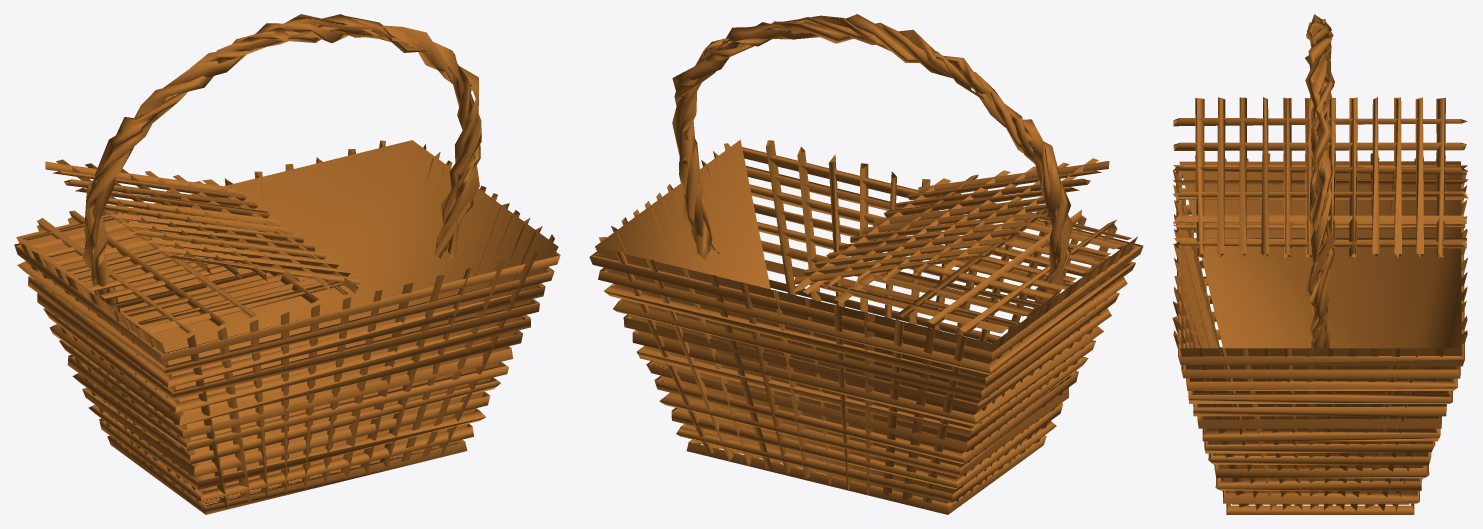
File: cestino_picnic_LOD2.fbx
The picture shows the model from 3 angles, left to right: view 1: azimuth 30°, elevation 25°; view 2: azimuth 150°, elevation 25°; view 3: azimuth 270°, elevation 25°; orthographic projection. The views are drawn at different scales.
Visible parts, largest first — view 1: clothes_003; view 2: clothes_003; view 3: clothes_003.
Boxes of the visible parts, x1,y1,x2,y2 form: clothes_003: (14,14,560,514); clothes_003: (589,14,1143,514); clothes_003: (1172,14,1468,514).
Size of the model in its own units: 158 by 158 by 103.
